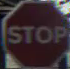Stop: (0, 2, 66, 59)
